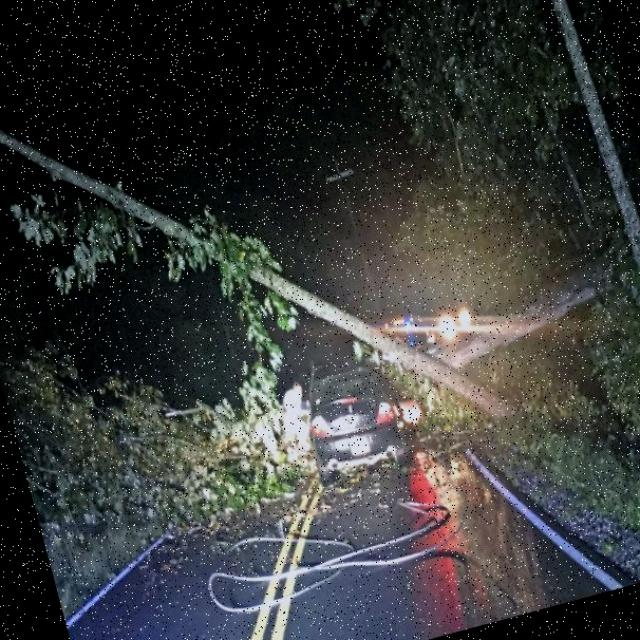fallen_object: (0, 0, 526, 560), (341, 234, 640, 400)
